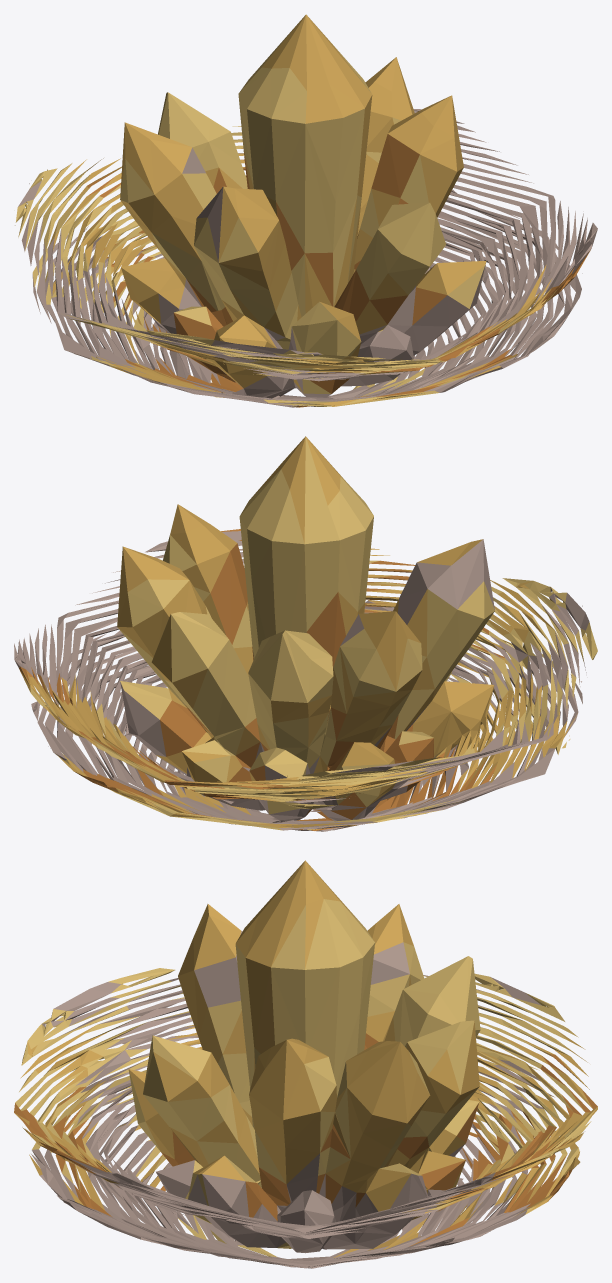
Rendered from crystal_gold.glb.
The picture shows the model from 3 angles, top to bottom: view 1: azimuth 30°, elevation 25°; view 2: azimuth 150°, elevation 25°; view 3: azimuth 270°, elevation 25°; orthographic projection. The views are drawn at different scales.
Visible parts, largest first — view 1: geometry_0; view 2: geometry_0; view 3: geometry_0.
Part boxes in pixels (bbox=[...]): geometry_0: bbox=[15, 14, 597, 407]; geometry_0: bbox=[14, 436, 597, 831]; geometry_0: bbox=[14, 860, 597, 1268].
Bounding box in the file's own units: 1.98 × 1.42 × 1.98.
